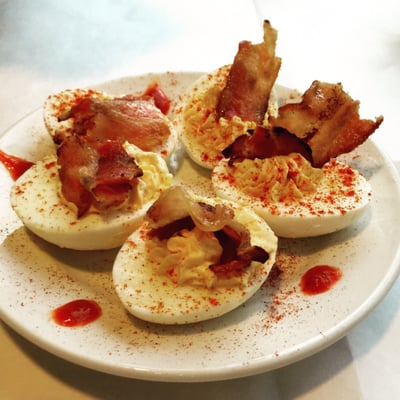curry: (7, 52, 400, 399)
sandwich: (4, 28, 398, 385)
